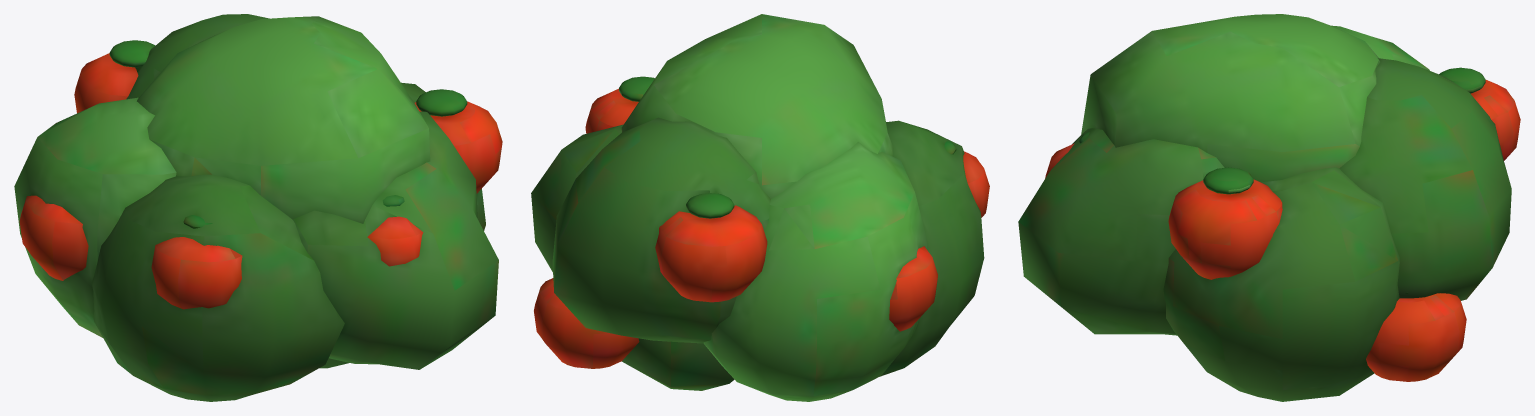
Rendered from crop_goji.glb.
The picture shows the model from 3 angles, left to right: view 1: azimuth 30°, elevation 25°; view 2: azimuth 150°, elevation 25°; view 3: azimuth 270°, elevation 25°; orthographic projection. The views are drawn at different scales.
Parts seen in each view (by area): view 1: crop_goji, fruit; view 2: crop_goji, fruit; view 3: crop_goji, fruit.
Part boxes in pixels (x1,y1,x2,y2): crop_goji: (14, 14, 498, 401); fruit: (19, 53, 502, 309); crop_goji: (531, 14, 984, 401); fruit: (534, 88, 989, 368); crop_goji: (1018, 14, 1511, 401); fruit: (1045, 80, 1520, 381).
Size of the model in its own units: 0.2659 by 0.2091 by 0.275.
Materials: 1 (1 with a texture image).
